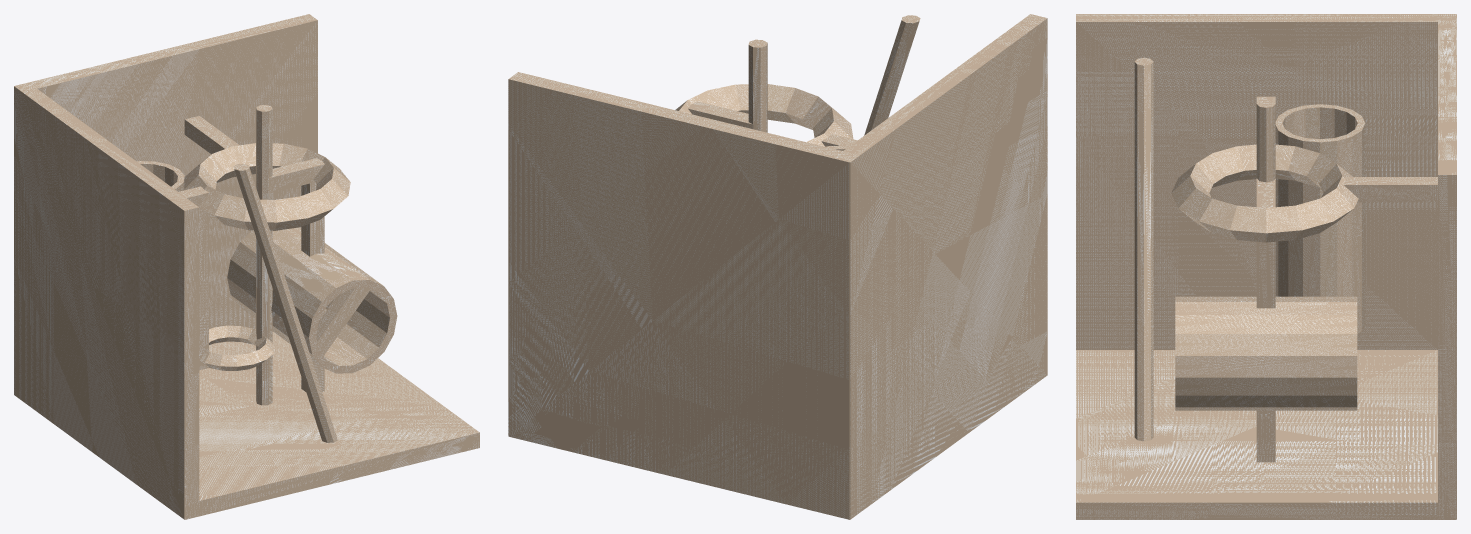
File: Abstract_env.dae
3 views of the same model, side by side, from view 1: azimuth 30°, elevation 25°; view 2: azimuth 150°, elevation 25°; view 3: azimuth 270°, elevation 25° (orthographic). The views are drawn at different scales.
Visible parts, largest first — view 1: instance_0 (×14); view 2: instance_0 (×6); view 3: instance_0 (×12).
Boxes of the visible parts, <box> form: instance_0 (×14): <box>14,14,479,519</box>; instance_0 (×6): <box>508,14,1047,519</box>; instance_0 (×12): <box>1076,14,1456,519</box>.
Bounding box in the file's own units: 473 × 473 × 473.
